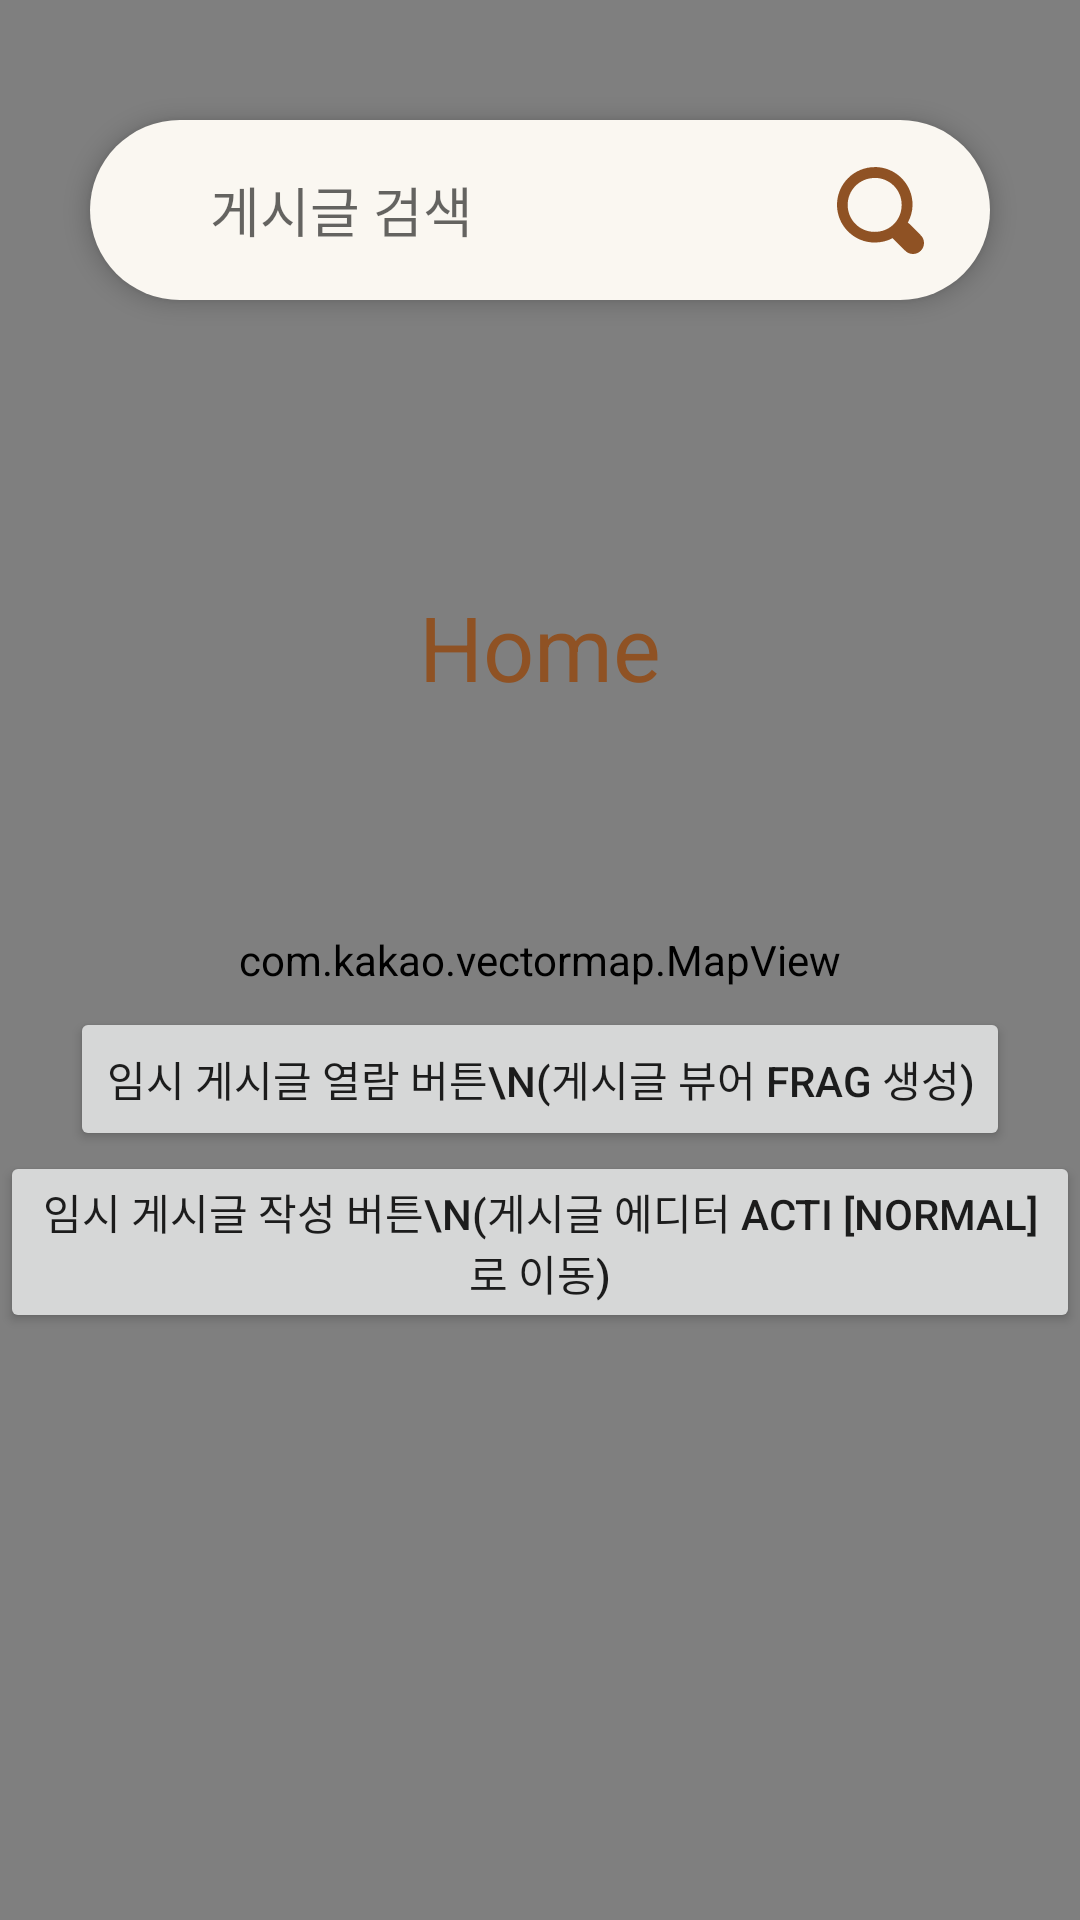

Screen size 1080 x 1920. Icon name, then its box in pixels as bbox(x1, y1, x2, y2):
search: bbox(837, 167, 924, 254)
